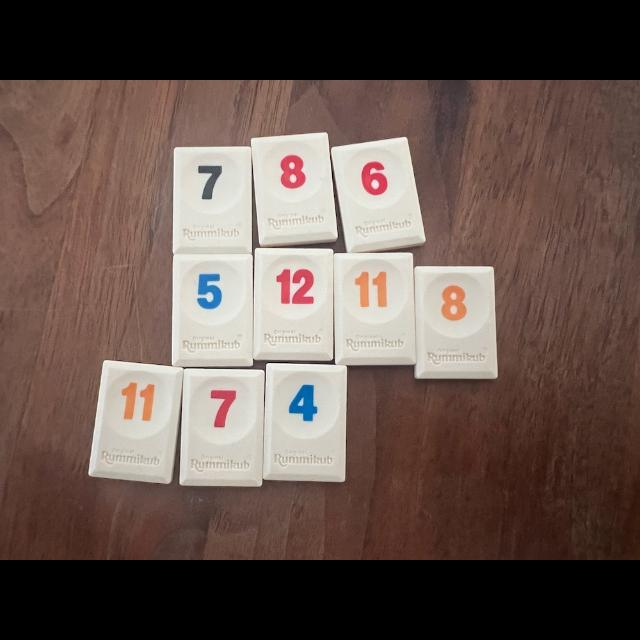black_7: (174, 148, 250, 254)
blue_4: (265, 364, 346, 481)
blue_5: (172, 254, 252, 368)
orange_11: (89, 361, 182, 484), (335, 252, 416, 365)
orange_8: (415, 266, 498, 379)
red_12: (254, 249, 334, 361)
red_6: (331, 138, 425, 252)
red_7: (181, 369, 265, 486)
red_8: (252, 132, 338, 246)
